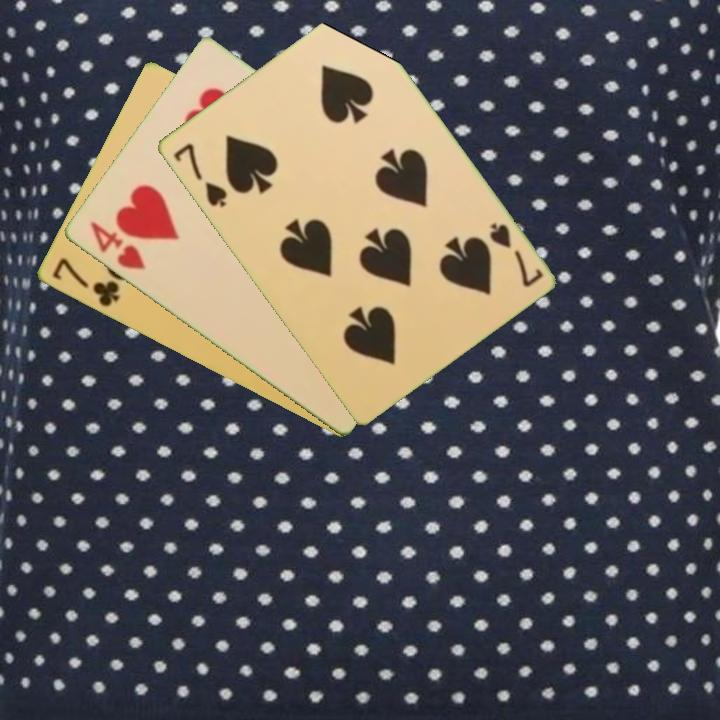4h: (86, 218, 149, 273)
7c: (48, 254, 122, 310)
7s: (169, 139, 230, 211), (485, 218, 545, 291)
